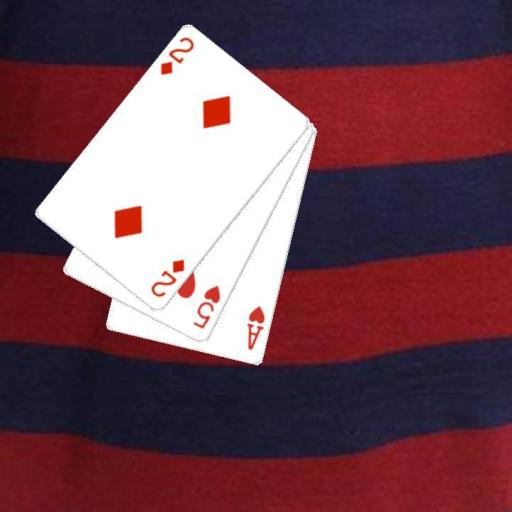2D: (157, 34, 197, 78), (148, 256, 187, 299)
5H: (190, 283, 222, 332)
AH: (243, 303, 267, 352)
